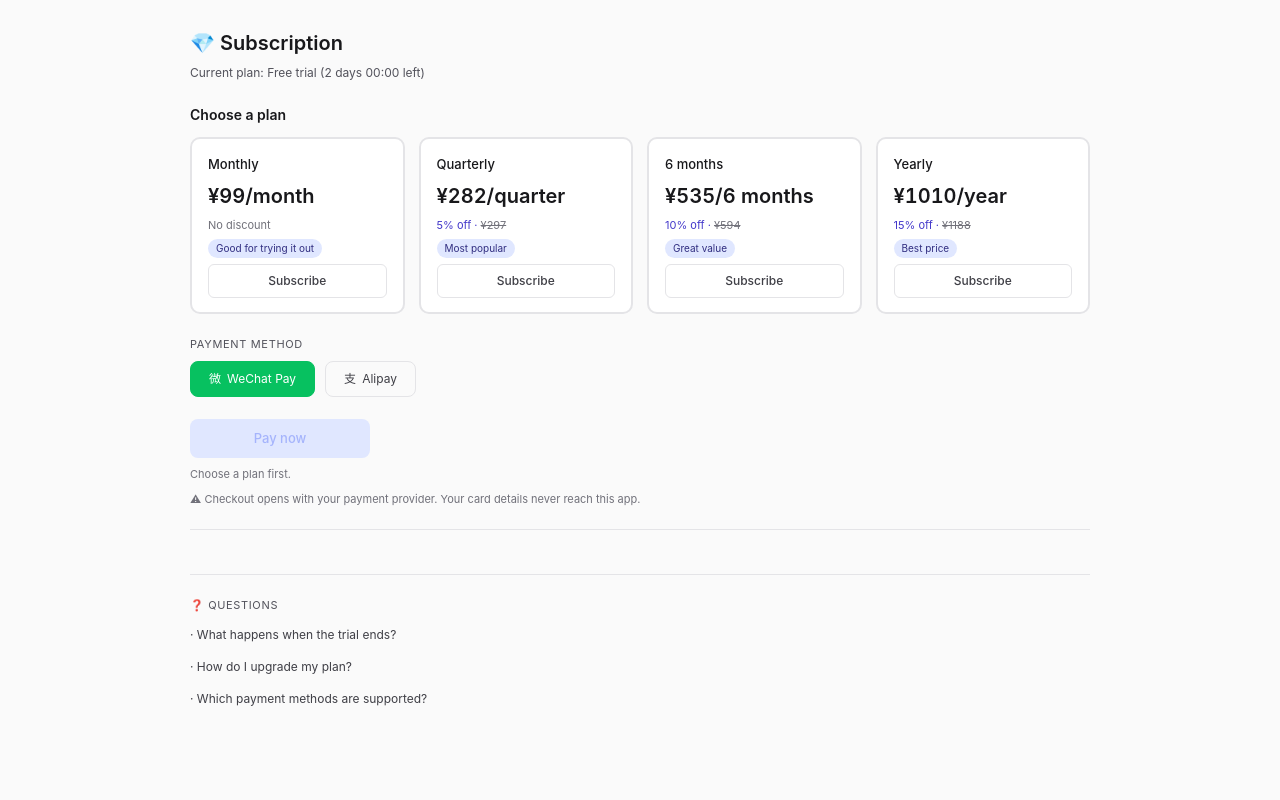
paying › explains an order the service scoped to another app, rather than a raw reason
Click the 1st button "Subscribe" at (297, 281), box [208,264,386,298]
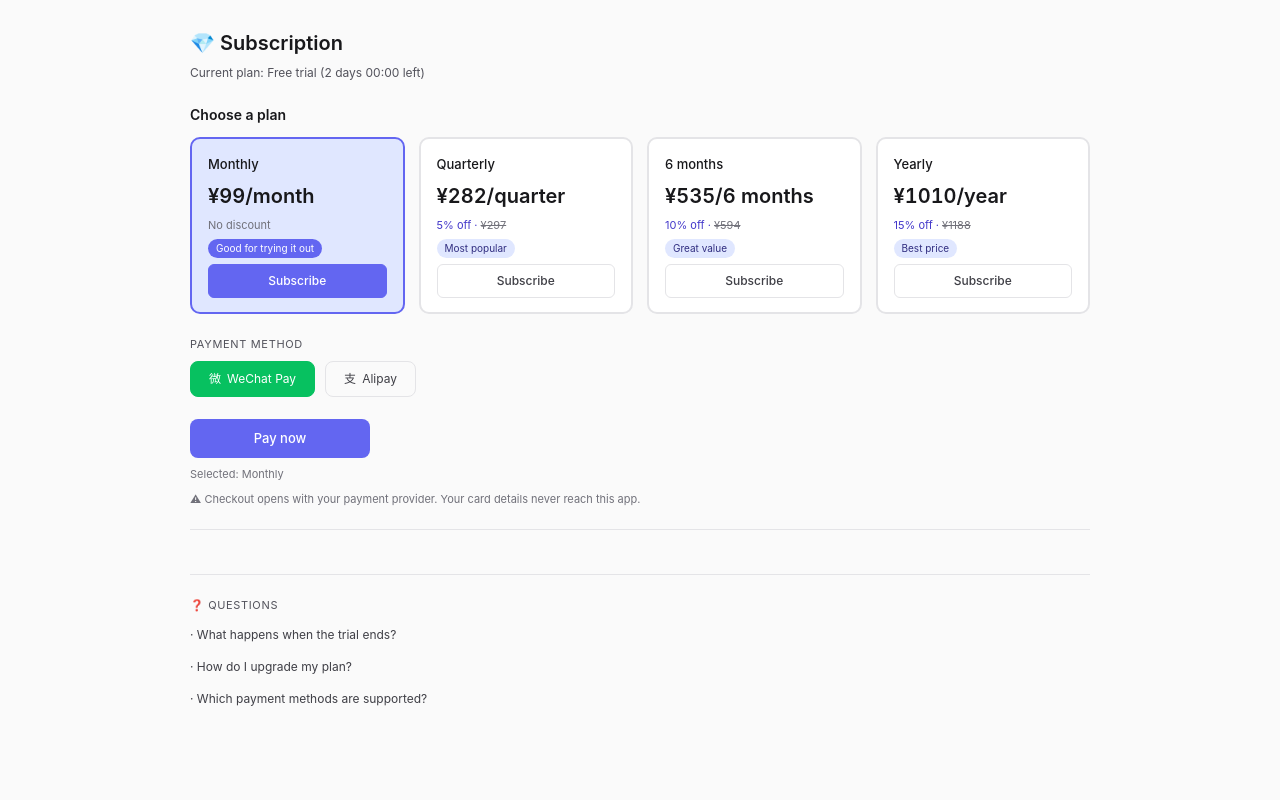
Click the button with test id "pay-now" at (280, 438), box [190,418,370,458]
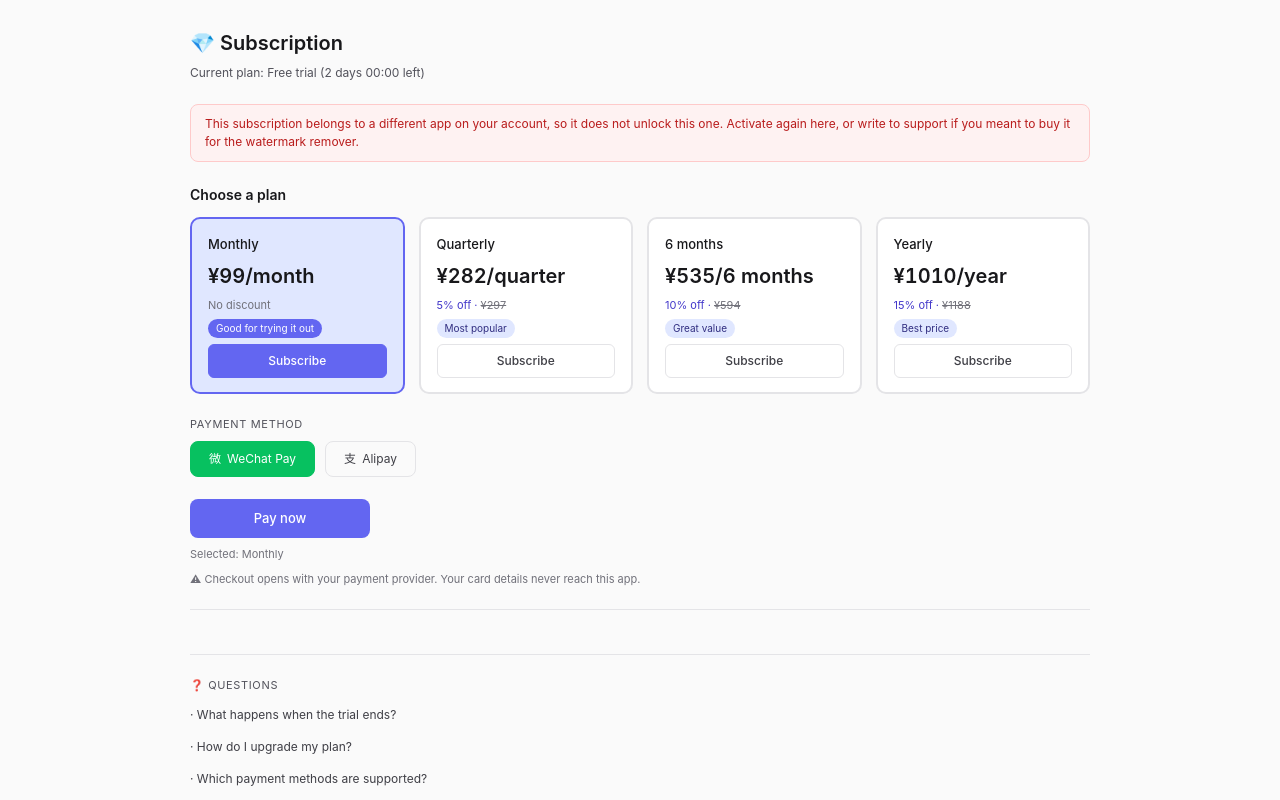
Expected: the text with test id "subscribe-error" does not show "appId mismatch", [190,104,1090,162]
Result: the text with test id "subscribe-error" shows "different app" at [205,116,1070,149]
